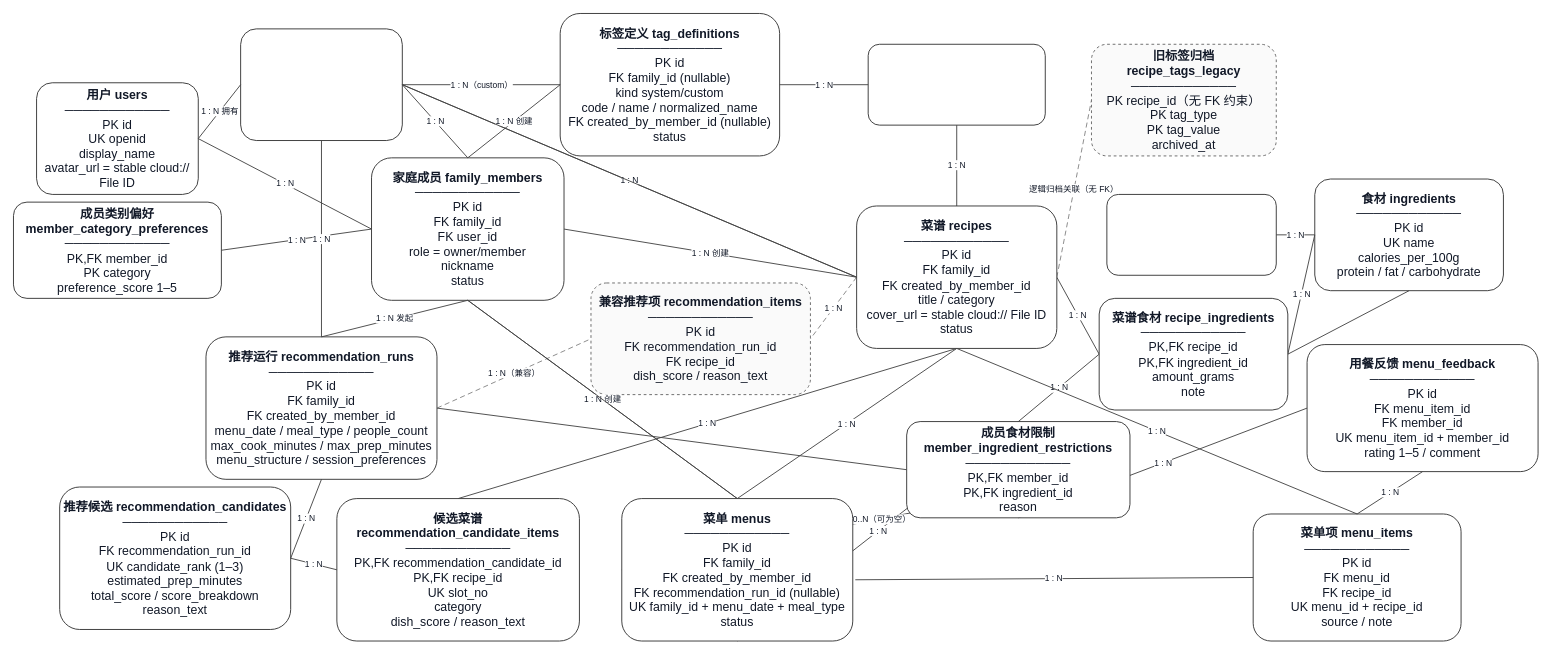
Some shapes in this 1552 by 656 pixel diagram are drawn without their labels. Each missing label, with the box of its shape:
家庭 families ──────────── PK id FK owner_user_id UK invite_code name: (240, 28, 402, 141)
菜谱标签 recipe_tags ──────────── PK,FK recipe_id PK,FK tag_id: (867, 43, 1045, 125)
食材季节 ingredient_seasons ──────────── PK,FK ingredient_id PK month: (1106, 194, 1276, 275)
